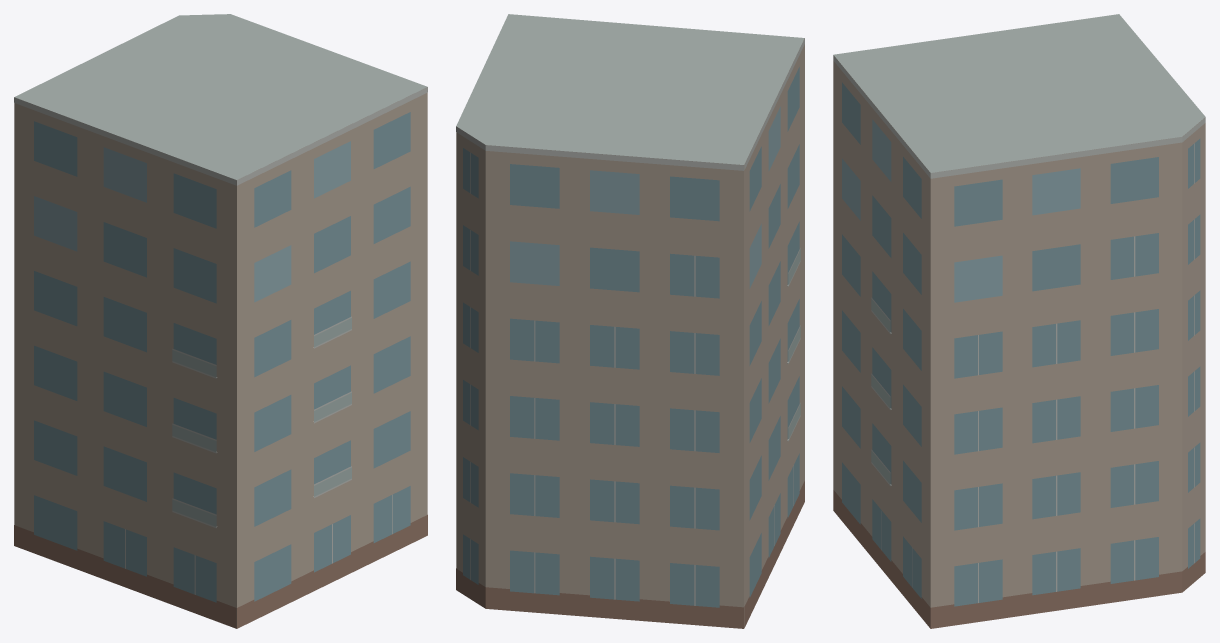
The model's file is survey-upis-32749601.glb.
3 views of the same model, side by side, from view 1: azimuth 30°, elevation 25°; view 2: azimuth 150°, elevation 25°; view 3: azimuth 270°, elevation 25° (orthographic). The views are drawn at different scales.
Visible parts, largest first — view 1: survey-upis-32749601.tmp; view 2: survey-upis-32749601.tmp; view 3: survey-upis-32749601.tmp.
Part boxes in pixels (<box>): survey-upis-32749601.tmp: <box>14,14,427,628</box>; survey-upis-32749601.tmp: <box>456,14,804,628</box>; survey-upis-32749601.tmp: <box>833,14,1205,628</box>.
Bounding box in the file's own units: 14.53 × 19.4 × 14.37.
